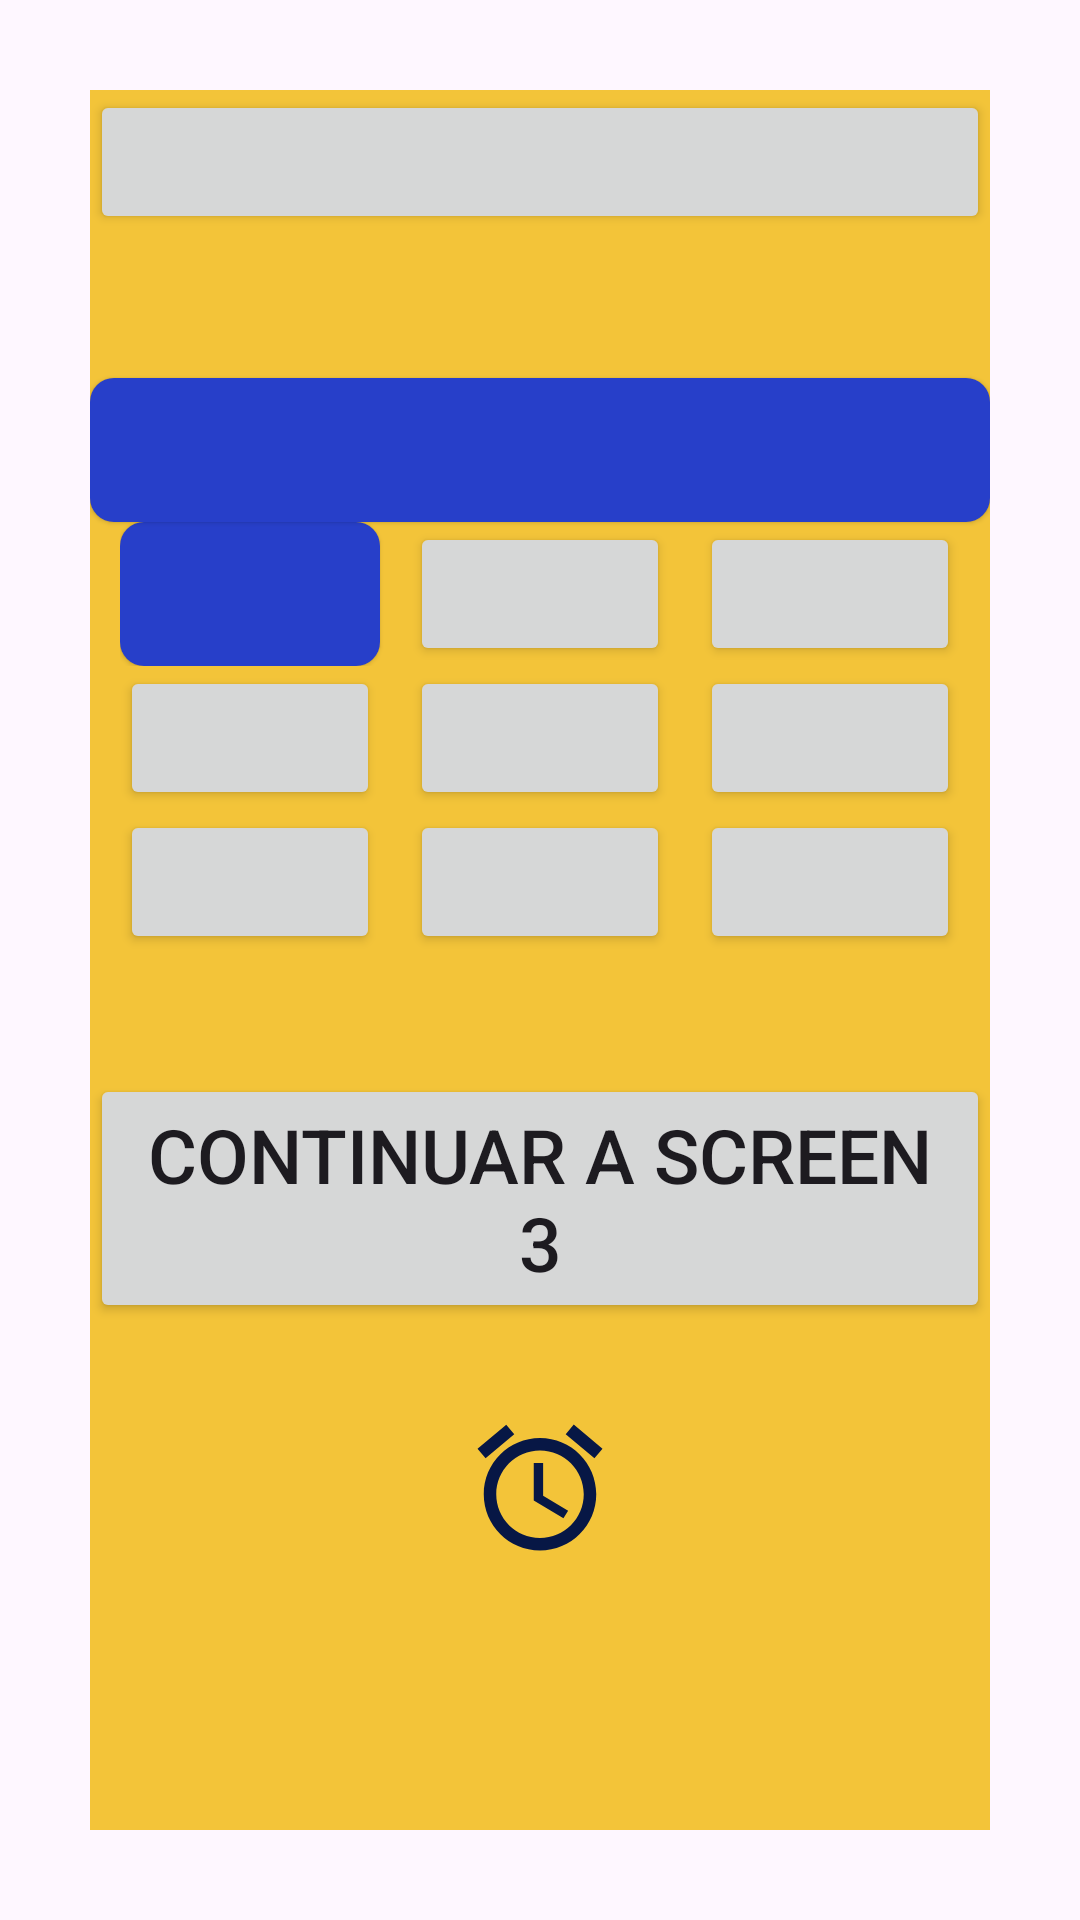

Point at icon controls on the screen. Image size 1080x1920, points as (x=x, y=y).
alarm: (x=540, y=1487)
